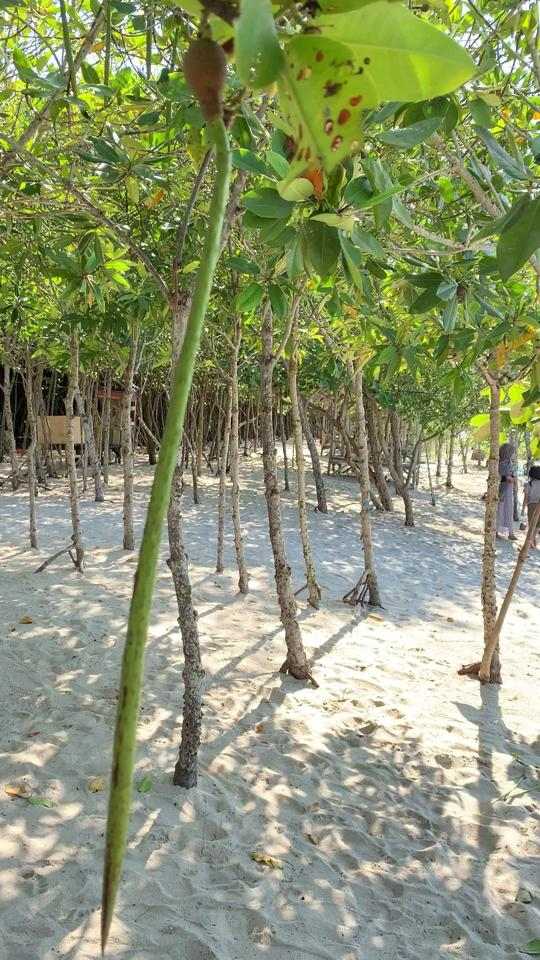mentah: (85, 11, 260, 959)
